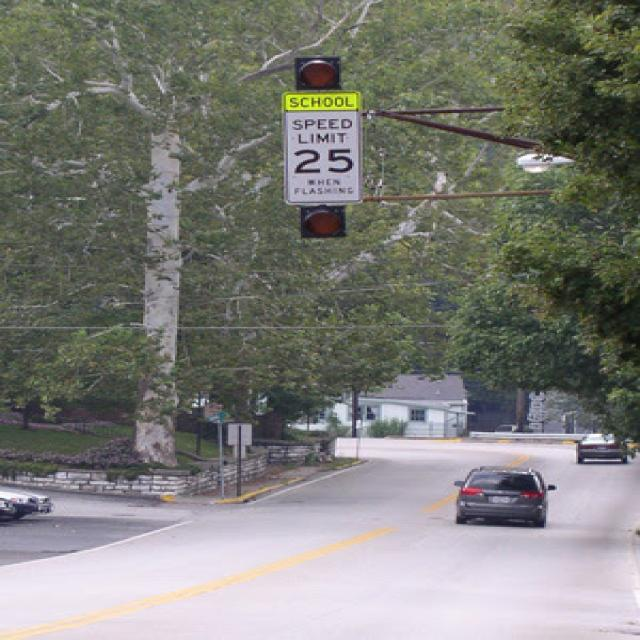speedLimit25: (288, 115, 361, 182)
